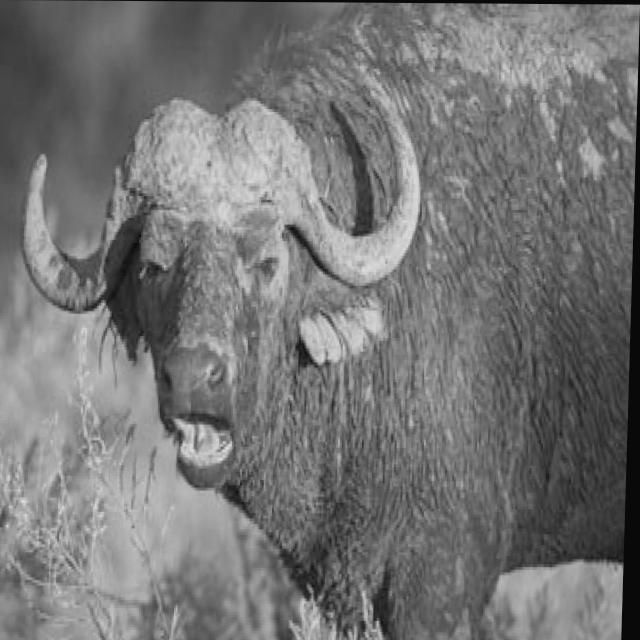Buffalo: (10, 8, 635, 640)
